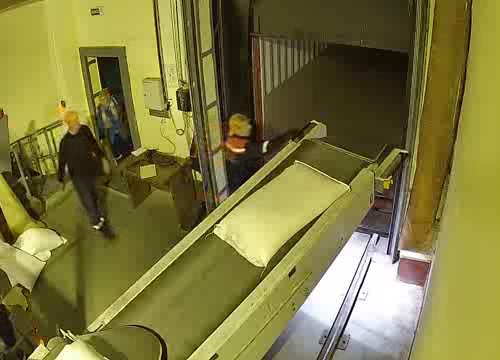bag: (206, 148, 363, 275), (40, 333, 119, 360)
